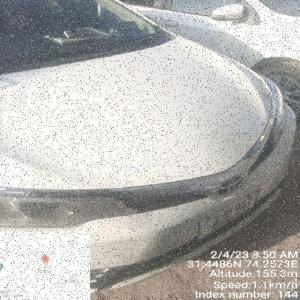Plate: (197, 189, 260, 242)
